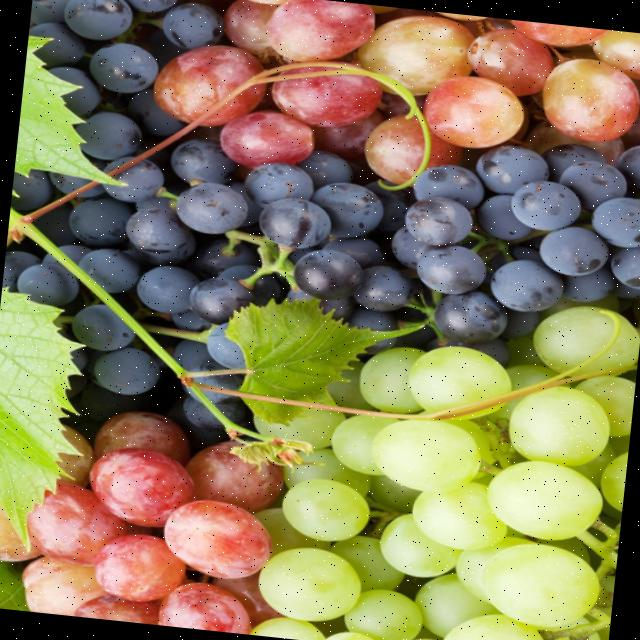grape: (250, 385, 618, 640), (370, 375, 629, 640), (391, 144, 640, 342), (405, 345, 552, 411), (535, 307, 636, 377)
